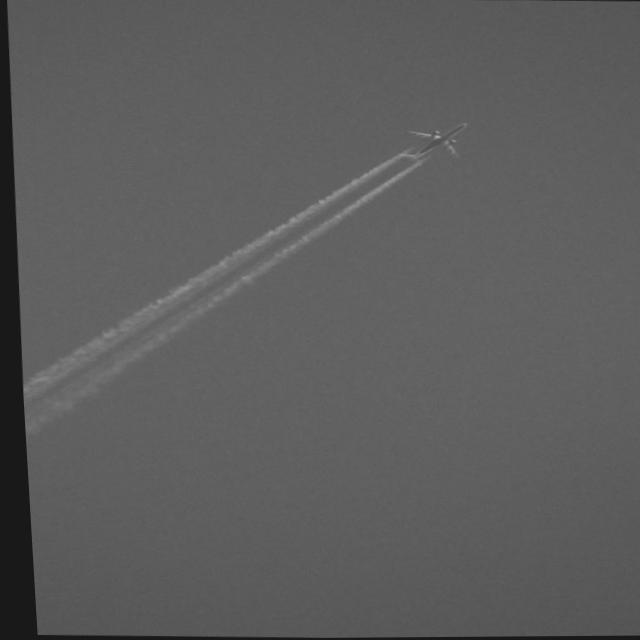aeroplane: (391, 120, 476, 168)
